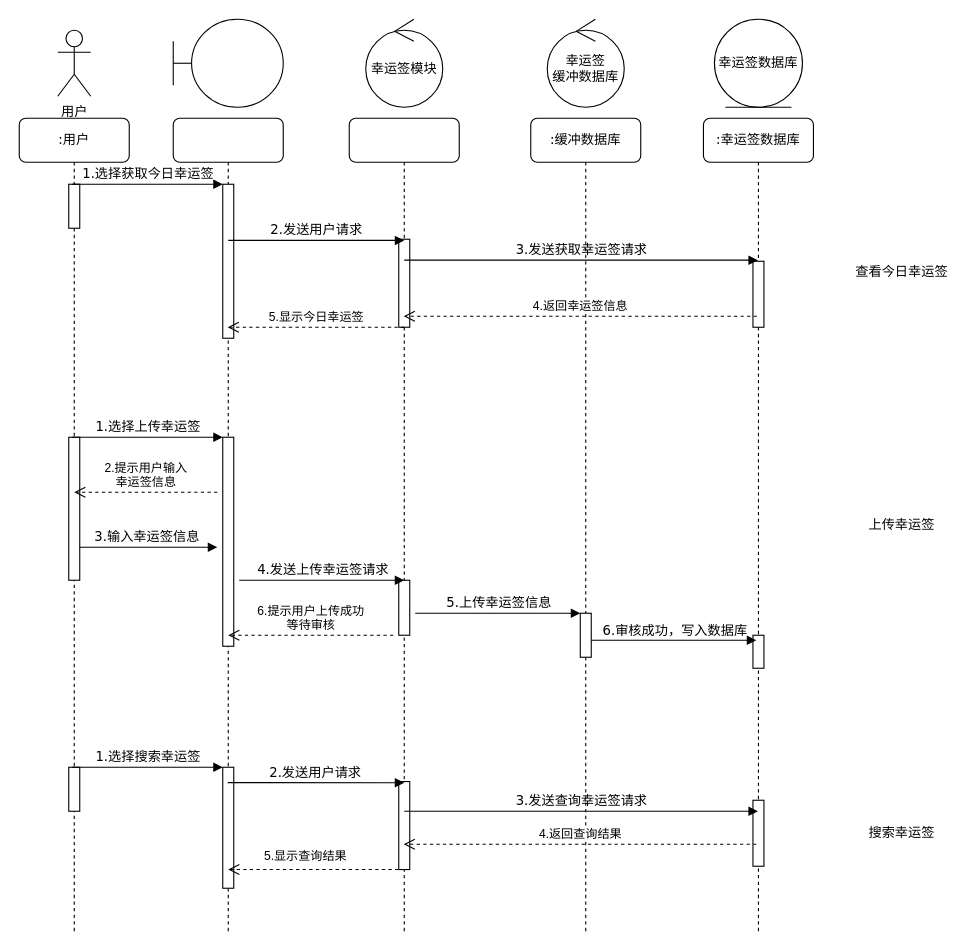
Some shapes in this 976 by 952 pixel diagram are drawn without their labels. Here are the shapes that lost their labels. From the top down, the box of each, then its label:
(172, 18, 283, 107): 应用界面
(172, 117, 283, 932): :应用界面
(348, 117, 459, 932): :幸运签模块
